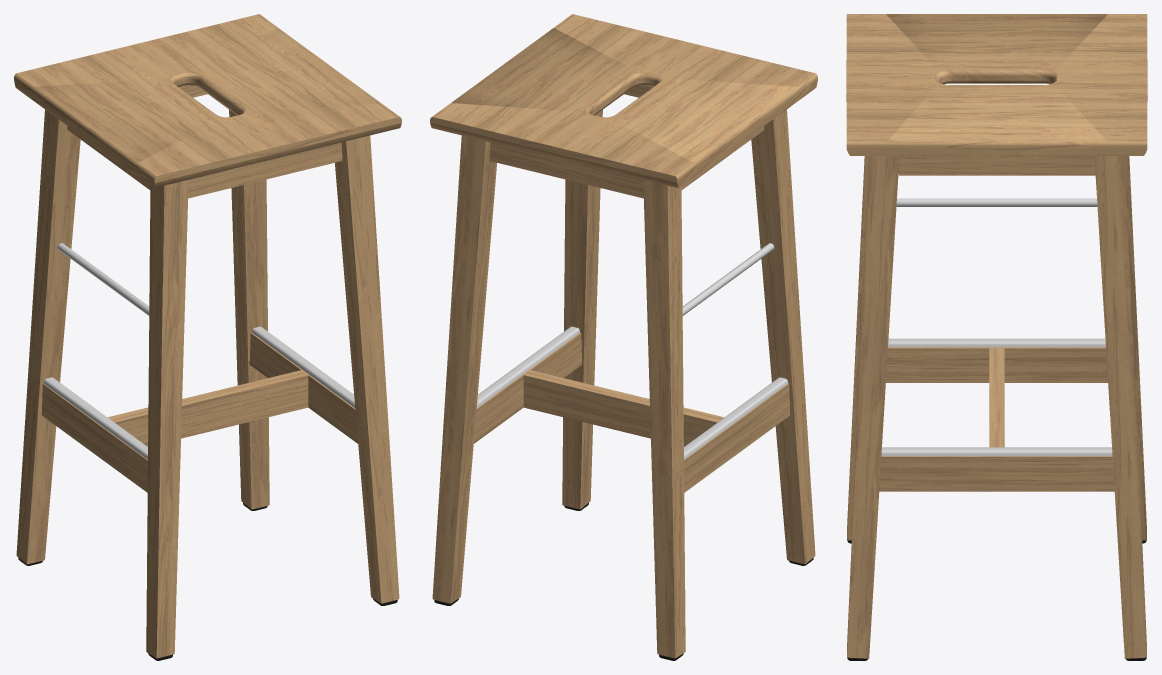
The model's file is BarStool.glb.
The picture shows the model from 3 angles, left to right: view 1: azimuth 30°, elevation 25°; view 2: azimuth 150°, elevation 25°; view 3: azimuth 270°, elevation 25°; orthographic projection. The views are drawn at different scales.
Visible parts, largest first — view 1: NILSOLLE bar stool | IKEA; view 2: NILSOLLE bar stool | IKEA; view 3: NILSOLLE bar stool | IKEA.
Part boxes in pixels (left/top/right/bottom): NILSOLLE bar stool | IKEA: left=14, top=14, right=401, bottom=660; NILSOLLE bar stool | IKEA: left=430, top=14, right=817, bottom=660; NILSOLLE bar stool | IKEA: left=846, top=14, right=1147, bottom=660.
Size of the model in its own units: 0.3962 by 0.7451 by 0.39.
Materials: 3 (1 with a texture image).
